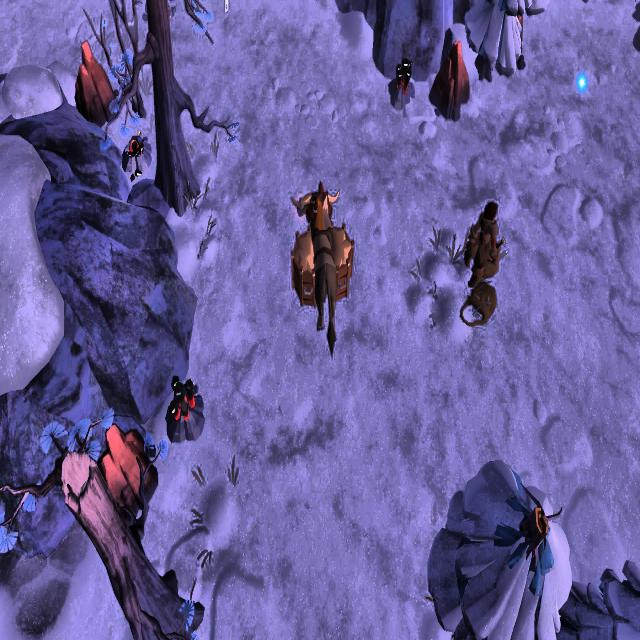enemy_factionKeeper: (461, 194, 502, 286)
ore_t5: (167, 367, 194, 426), (393, 54, 414, 98)
rock_t5: (99, 419, 157, 522), (70, 36, 120, 130), (430, 39, 470, 128)
